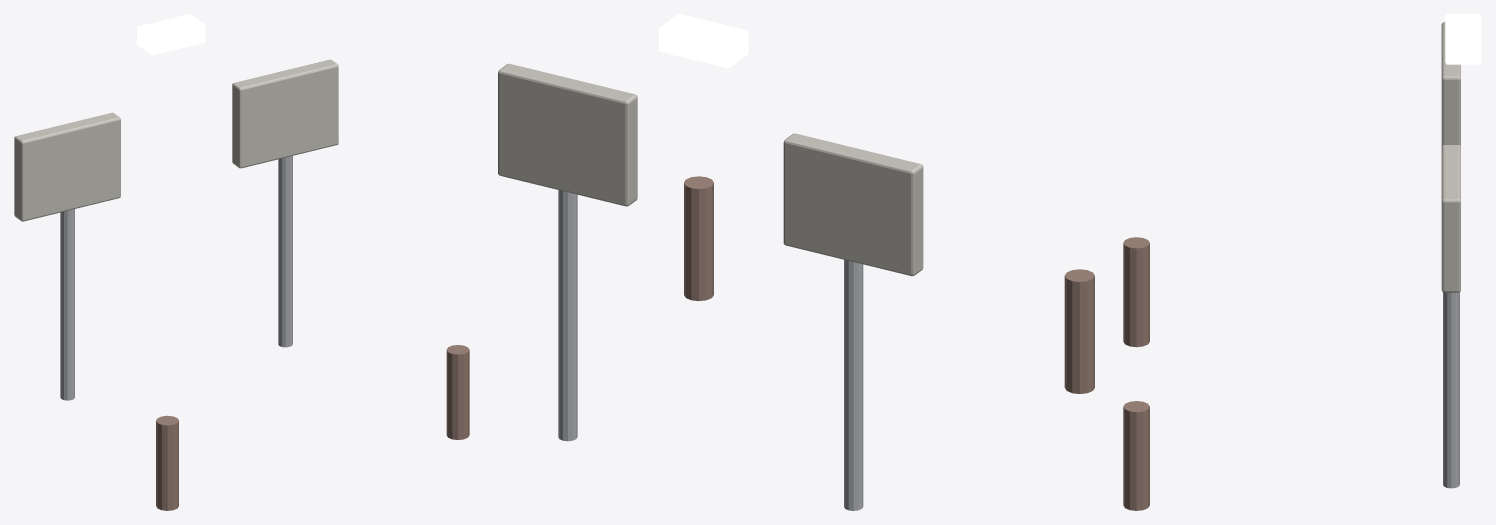
Rendered from kit_cruce_lod0.glb.
The picture shows the model from 3 angles, left to right: view 1: azimuth 30°, elevation 25°; view 2: azimuth 150°, elevation 25°; view 3: azimuth 270°, elevation 25°; orthographic projection. The views are drawn at different scales.
Visible parts, largest first — view 1: panel_1, panel_0, post_0, post_1, bollard_1, bollard_0, lamp_head; view 2: panel_0, panel_1, post_1, post_0, bollard_0, bollard_1, lamp_head; view 3: post_1, panel_1, bollard_1, bollard_0, lamp_head, panel_0.
Boxes of the visible parts, x1=… form: panel_1: x1=232, y1=59, x2=338, y2=168; panel_0: x1=14, y1=112, x2=120, y2=221; post_0: x1=60, y1=209, x2=74, y2=400; post_1: x1=278, y1=156, x2=292, y2=347; bollard_1: x1=446, y1=345, x2=469, y2=439; bollard_0: x1=156, y1=415, x2=178, y2=510; lamp_head: x1=137, y1=14, x2=205, y2=55; panel_0: x1=783, y1=133, x2=923, y2=276; panel_1: x1=498, y1=63, x2=637, y2=206; post_1: x1=558, y1=190, x2=577, y2=441; post_0: x1=844, y1=259, x2=863, y2=510; bollard_0: x1=1064, y1=269, x2=1094, y2=393; bollard_1: x1=684, y1=176, x2=713, y2=300; lamp_head: x1=659, y1=14, x2=748, y2=68; post_1: x1=1443, y1=292, x2=1459, y2=488; panel_1: x1=1441, y1=145, x2=1460, y2=292; bollard_1: x1=1123, y1=401, x2=1149, y2=510; bollard_0: x1=1123, y1=237, x2=1149, y2=347; lamp_head: x1=1445, y1=14, x2=1481, y2=64; panel_0: x1=1441, y1=22, x2=1460, y2=146.
Bounding box in the file's own units: 3.5 × 3.6 × 2.96.
